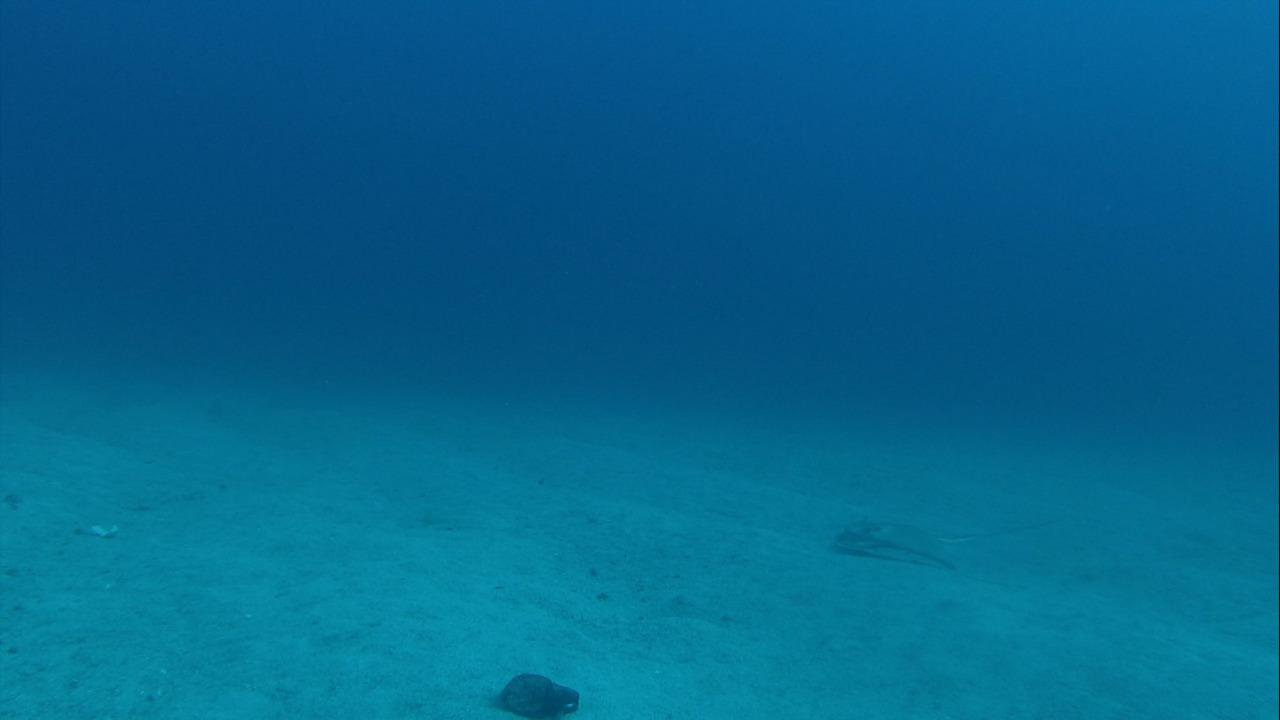myliobatis: (825, 506, 1058, 575)
